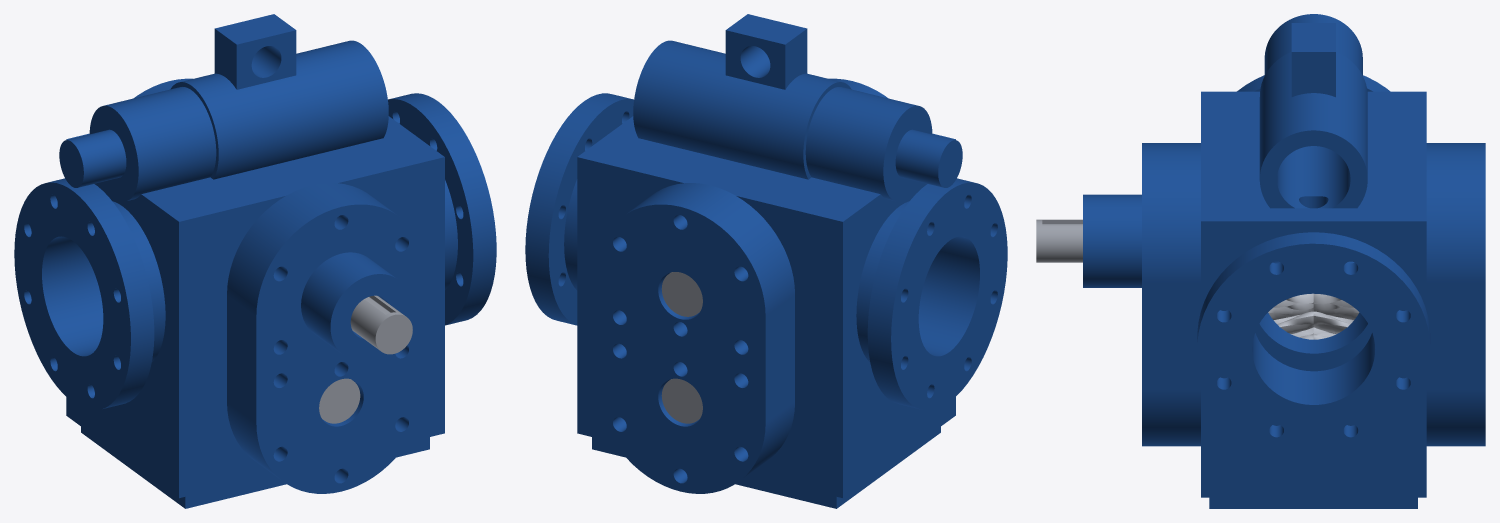
The model's file is pump_sh80.glb.
3 views of the same model, side by side, from view 1: azimuth 30°, elevation 25°; view 2: azimuth 150°, elevation 25°; view 3: azimuth 270°, elevation 25° (orthographic).
Parts seen in each view (by area): view 1: body, front_cover, valve_barrel, drive_shaft, driven_shaft; view 2: body, rear_cover, valve_barrel, driven_shaft, drive_shaft; view 3: body, front_cover, rear_cover, driven_rotor, valve_barrel, drive_shaft, drive_rotor.
Part boxes in pixels (x1,y1,x2,y2): body: (14,14,496,508); front_cover: (227,183,426,493); valve_barrel: (59,87,216,201); drive_shaft: (350,295,412,354); driven_shaft: (319,378,360,423); body: (525,14,1007,508); rear_cover: (595,183,794,493); valve_barrel: (805,87,962,201); driven_shaft: (661,378,702,423); drive_shaft: (661,272,702,316); body: (1197,23,1430,508); front_cover: (1083,143,1200,446); rear_cover: (1426,143,1485,446); driven_rotor: (1268,307,1359,339); valve_barrel: (1264,14,1362,75); drive_shaft: (1036,219,1082,262); drive_rotor: (1273,293,1353,310).
Size of the model in its own units: 0.345 by 0.37 by 0.366.
